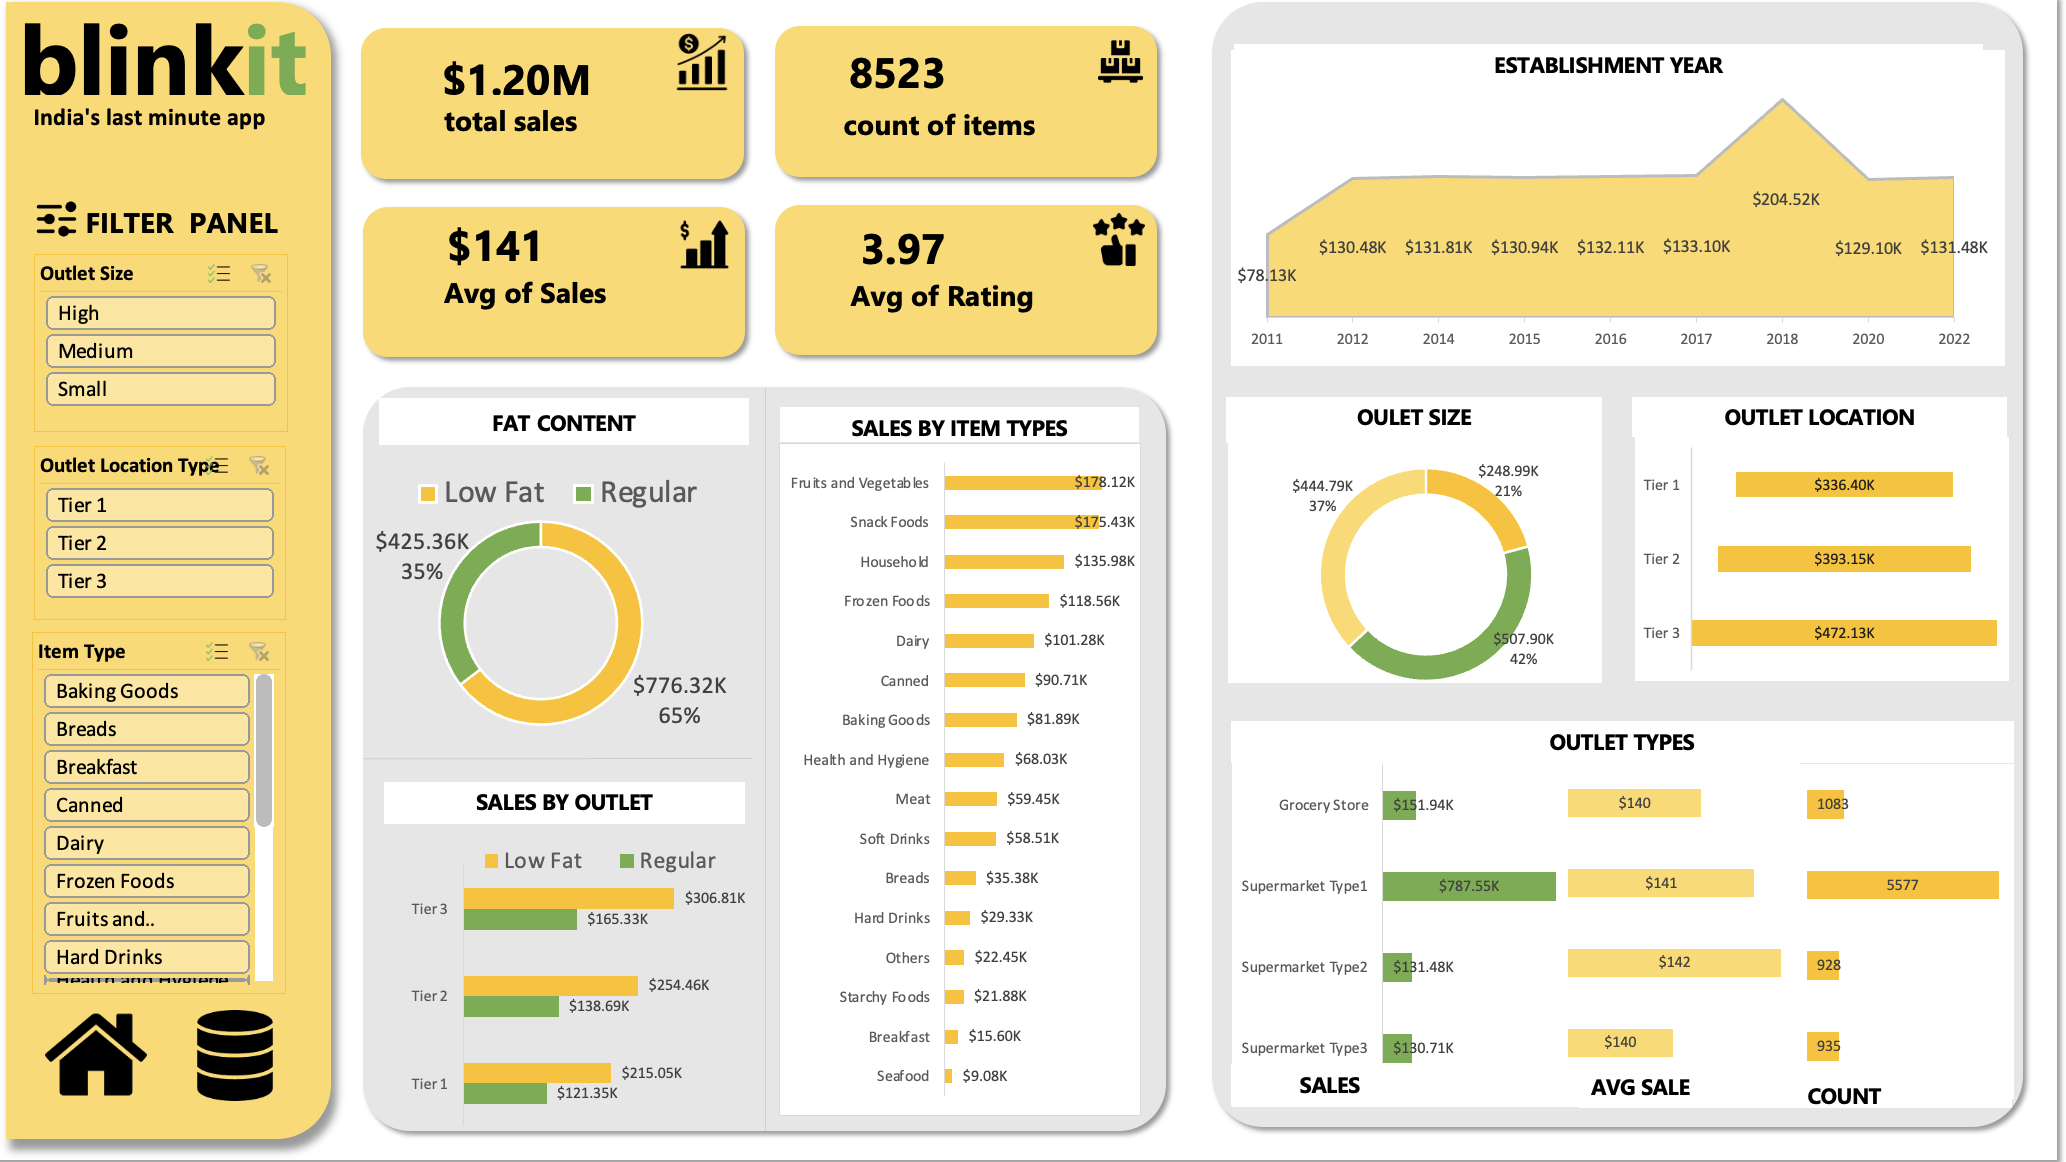

This screenshot's page, from the dashboard's own definition file:
{"tool":"tableau","page":{"name":"Dashboard 1","canvas":[1000,1000],"units":"permille","ordinal":0},"visuals":[{"type":"image","param":"Image/Screenshot 2025-09-28 at 11.31.42 AM.png","box":[10.3,10.6,396.2,150.4]},{"type":"worksheet","title":"TOP CATE","mark":"Automatic","rows":["Item Type"],"cols":["Sales"],"box":[406.6,10.6,237.5,978.9]},{"type":"text","box":[644.2,10.6,349.5,55.4]},{"type":"blank","box":[13.5,22.4,130.6,149.1]},{"type":"worksheet","title":"TOTALSALE GRAPH ","mark":"Area","rows":["Sales","Sales"],"cols":["Outlet Establishment Year"],"box":[644.2,66,349.5,292.9]},{"type":"worksheet","title":"Total Sales","mark":"Automatic","box":[151.2,161,127.7,128]},{"type":"worksheet","title":"count of items ","mark":"Automatic","box":[278.9,161,127.7,128]},{"type":"image","param":"Image/setting.png","box":[14.3,170.2,19.1,33]},{"type":"text","box":[13.5,171.5,130.6,39.6]},{"type":"image","param":"Image/Sales.png","box":[158.1,176.8,30.2,50.1]},{"type":"image","param":"Image/Items.png","box":[287.5,176.8,35,55.4]},{"type":"filter","title":"TOP CATE","param":"[federated.0btll290axgzgr1aiizal1dtfd4q].[none:Item Type:nk]","box":[13.5,211.1,130.6,150.4]},{"type":"worksheet","title":"avg sales","mark":"Automatic","box":[151.2,288.9,127.7,122.7]},{"type":"worksheet","title":"avg rating ","mark":"Automatic","box":[278.9,288.9,127.7,122.7]},{"type":"image","param":"Image/Avg Sales.png","box":[156.5,302.1,29.4,52.8]},{"type":"image","param":"Image/rating (1).png","box":[285.9,303.4,35,58.1]},{"type":"legend","title":"Sheet 10","param":"[federated.0btll290axgzgr1aiizal1dtfd4q].[none:Outlet Size:nk]","box":[644.2,358.8,349.5,56.7]},{"type":"filter","title":"TOTALSALE GRAPH ","param":"[federated.0btll290axgzgr1aiizal1dtfd4q].[yr:Outlet Establishment Year:ok]","box":[13.5,361.5,130.6,175.5]},{"type":"legend","title":"FAT BY OUTLET  LOCATION  ","param":"[federated.0btll290axgzgr1aiizal1dtfd4q].[none:Item Fat Content:nk]","box":[151.2,411.6,255.4,62]},{"type":"worksheet","title":"Sheet 10","mark":"Pie","rows":["Calculation_1440518620234149896","Calculation_1440518620234194954"],"box":[644.2,415.6,349.5,304.8]},{"type":"worksheet","title":"fat content","mark":"Pie","rows":["Calculation_1353613221160443906","Calculation_1353613221161058308"],"box":[151.2,473.6,255.4,258.6]},{"type":"filter","title":"Sheet 10","param":"[federated.0btll290axgzgr1aiizal1dtfd4q].[none:Outlet Size:nk]","box":[13.5,536.9,130.6,134.6]},{"type":"filter","title":"FAT BY OUTLET  LOCATION  ","param":"[federated.0btll290axgzgr1aiizal1dtfd4q].[none:Outlet Location Type:nk]","box":[13.5,671.5,130.6,134.6]},{"type":"worksheet","title":"TOTAPL SALES BY OUTLET TYPE ","mark":"Bar","rows":["Outlet Type"],"cols":["Sales"],"box":[644.2,720.3,175.1,269.1]},{"type":"worksheet","title":"TOTAPL SALES BY OUTLET TYPE (3)","mark":"Bar","rows":["Outlet Type"],"cols":["Item Identifier"],"box":[819.3,720.3,174.3,269.1]},{"type":"worksheet","title":"FAT BY OUTLET  LOCATION  ","mark":"Automatic","rows":["Outlet Location Type"],"cols":["Sales"],"box":[151.3,732.2,255.2,257.3]},{"type":"filter","title":"TOTAPL SALES BY OUTLET TYPE ","param":"[federated.0btll290axgzgr1aiizal1dtfd4q].[none:Outlet Type:nk]","box":[13.5,806.1,130.6,167.5]}]}

Visuals, with their boxes on the dashboard's canvas, which has no fixed pixel size, in thousandths of its width and height (x1, y1, x2, y2). These are canvas units, not pixel positions in the 2066x1162 screenshot, which may show the page scaled, cropped or inside an application window:
image: 10 11 406 161
"TOP CATE" worksheet: 407 11 644 990
text: 644 11 994 66
blank: 14 22 144 172
"TOTALSALE GRAPH " worksheet (Area marks): 644 66 994 359
"Total Sales" worksheet: 151 161 279 289
"count of items " worksheet: 279 161 407 289
image: 14 170 33 203
text: 14 172 144 211
image: 158 177 188 227
image: 288 177 322 232
"TOP CATE" filter: 14 211 144 362
"avg sales" worksheet: 151 289 279 412
"avg rating " worksheet: 279 289 407 412
image: 156 302 186 355
image: 286 303 321 362
"Sheet 10" legend: 644 359 994 416
"TOTALSALE GRAPH " filter: 14 362 144 537
"FAT BY OUTLET  LOCATION  " legend: 151 412 407 474
"Sheet 10" worksheet (Pie marks): 644 416 994 720
"fat content" worksheet (Pie marks): 151 474 407 732
"Sheet 10" filter: 14 537 144 672
"FAT BY OUTLET  LOCATION  " filter: 14 672 144 806
"TOTAPL SALES BY OUTLET TYPE " worksheet (Bar marks): 644 720 819 989
"TOTAPL SALES BY OUTLET TYPE (3)" worksheet (Bar marks): 819 720 994 989
"FAT BY OUTLET  LOCATION  " worksheet: 151 732 406 990
"TOTAPL SALES BY OUTLET TYPE " filter: 14 806 144 974
